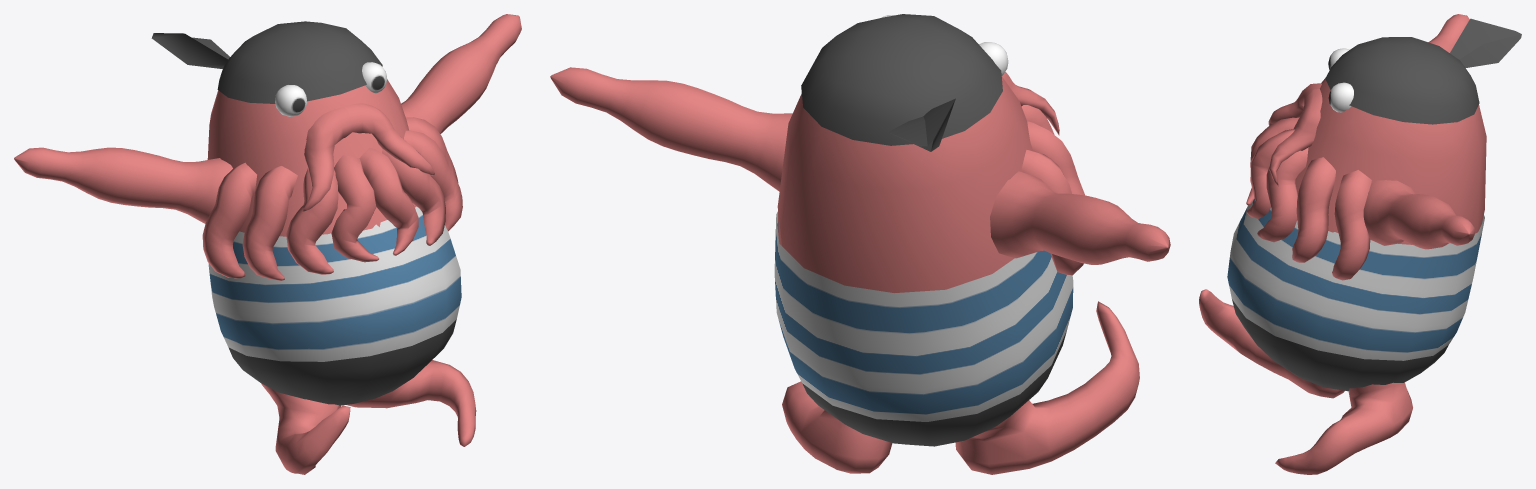
Rendered from tako_P03.5.fbx.
3 renders of one model, left to right at view 1: azimuth 30°, elevation 25°; view 2: azimuth 150°, elevation 25°; view 3: azimuth 270°, elevation 25°, orthographic. The views are drawn at different scales.
Parts seen in each view (by area): view 1: tako_P03h; view 2: tako_P03h; view 3: tako_P03h.
Part boxes in pixels (box(x1,y1,x2,y2)): tako_P03h: box(14, 14, 521, 474); tako_P03h: box(550, 14, 1170, 474); tako_P03h: box(1199, 14, 1521, 474).
Bounding box in the file's own units: 11.16 × 8.36 × 6.48.
Materials: 1 (1 with a texture image).
